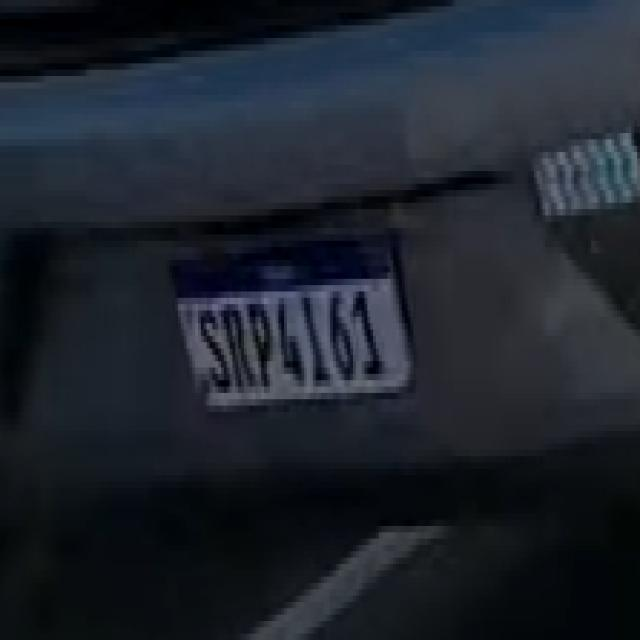Placa_mercosul_carro: (174, 264, 417, 419)
